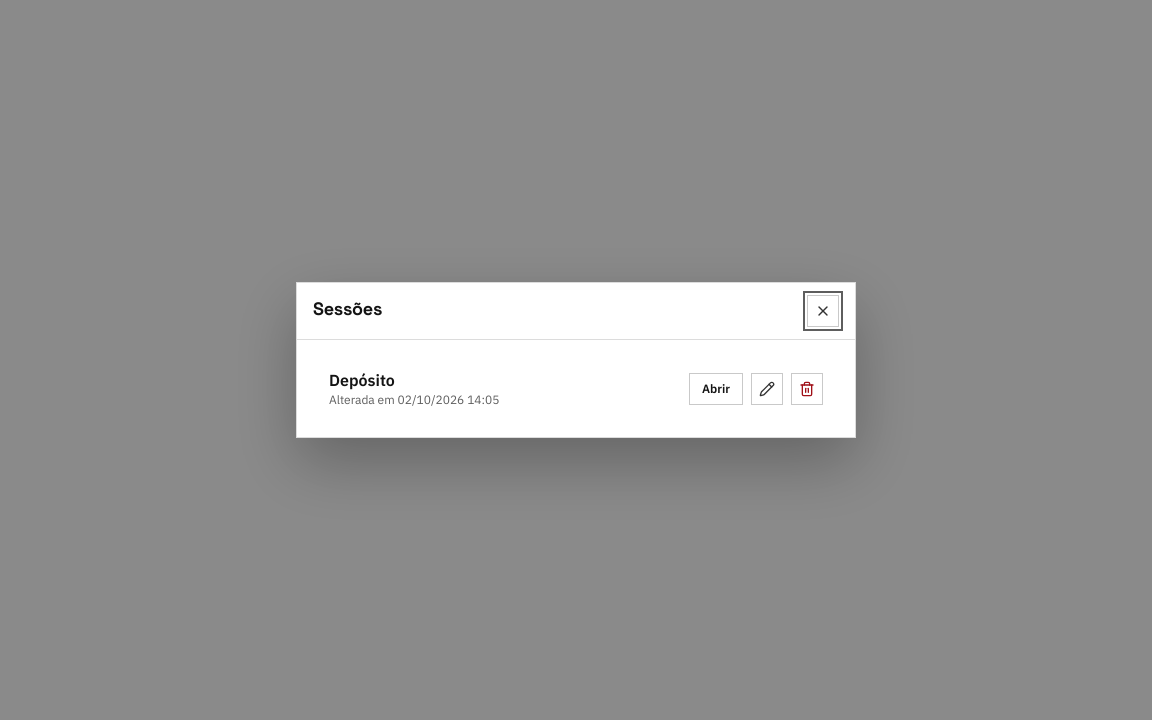
Scenario: SessionRow › mostra a falha da gravação e continua editando
What coordinates should you click on to do the following:
click the button named "Renomear Depósito"
I would click on:
 (767, 388)
Its box is top-left (751, 372), bottom-right (783, 404).
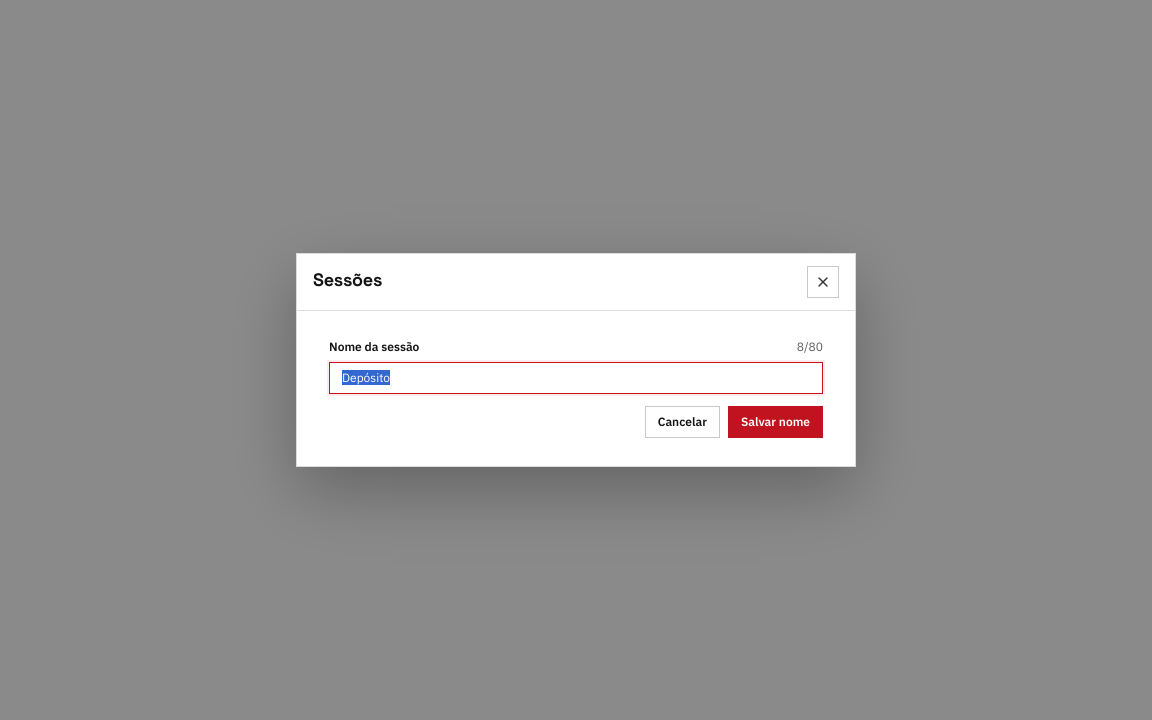
What coordinates should you click on to do the following:
click the button "Salvar nome"
I would click on:
 (775, 422)
Its box is top-left (728, 406), bottom-right (823, 438).
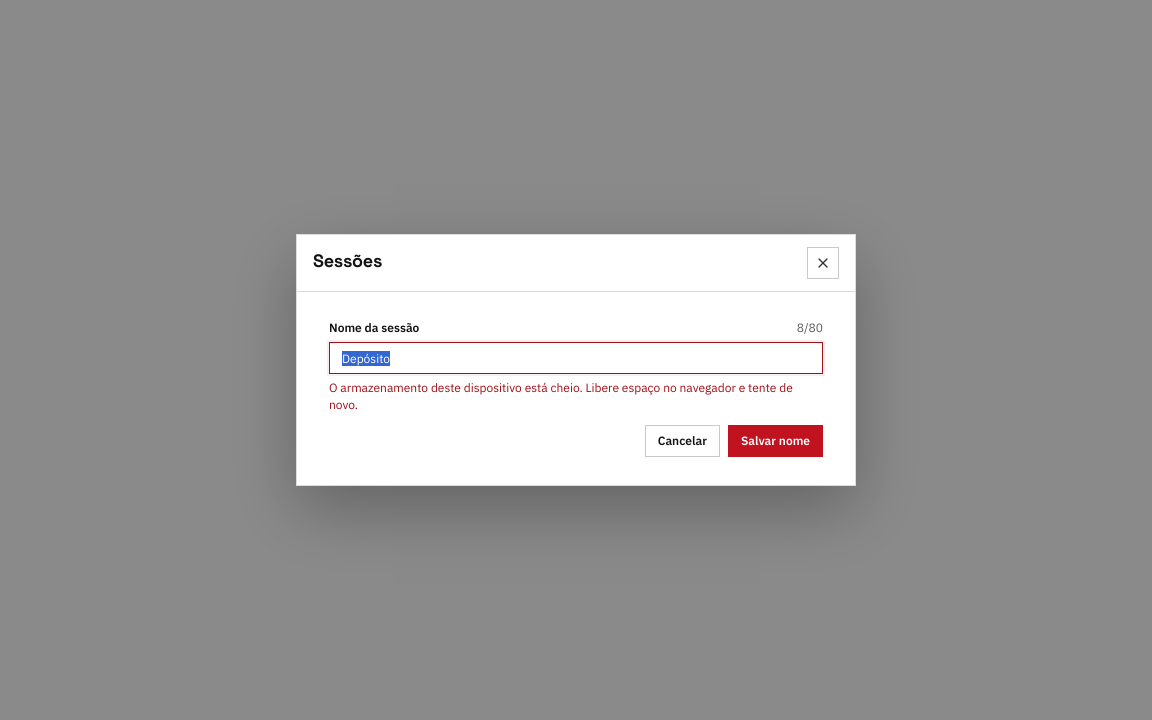
Check: the field labelled "Nome da sessão 8/80" is shown, box top-left (329, 342), bottom-right (823, 374)
Check: the text "O armazenamento deste dispositivo está cheio." is shown, box top-left (329, 380), bottom-right (793, 412)
